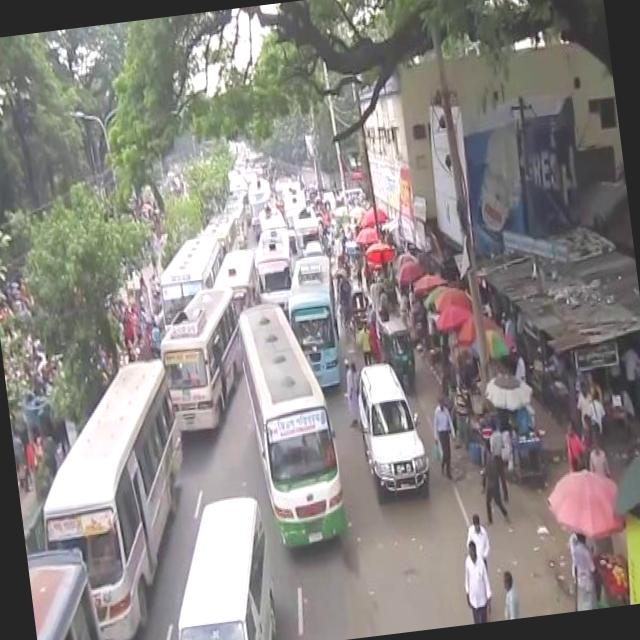bus: (25, 352, 200, 634), (236, 296, 348, 550), (158, 286, 245, 432), (280, 247, 344, 386), (26, 544, 98, 640), (152, 233, 222, 297), (250, 224, 296, 294), (214, 250, 257, 288), (292, 202, 321, 244), (200, 210, 236, 234), (245, 172, 271, 205), (257, 204, 284, 230), (282, 184, 306, 207), (228, 170, 248, 192)
car: (350, 355, 432, 502)
motorcycle: (378, 315, 413, 359), (348, 284, 371, 324), (336, 274, 350, 308), (332, 251, 347, 266)
truck: (154, 486, 282, 640)
